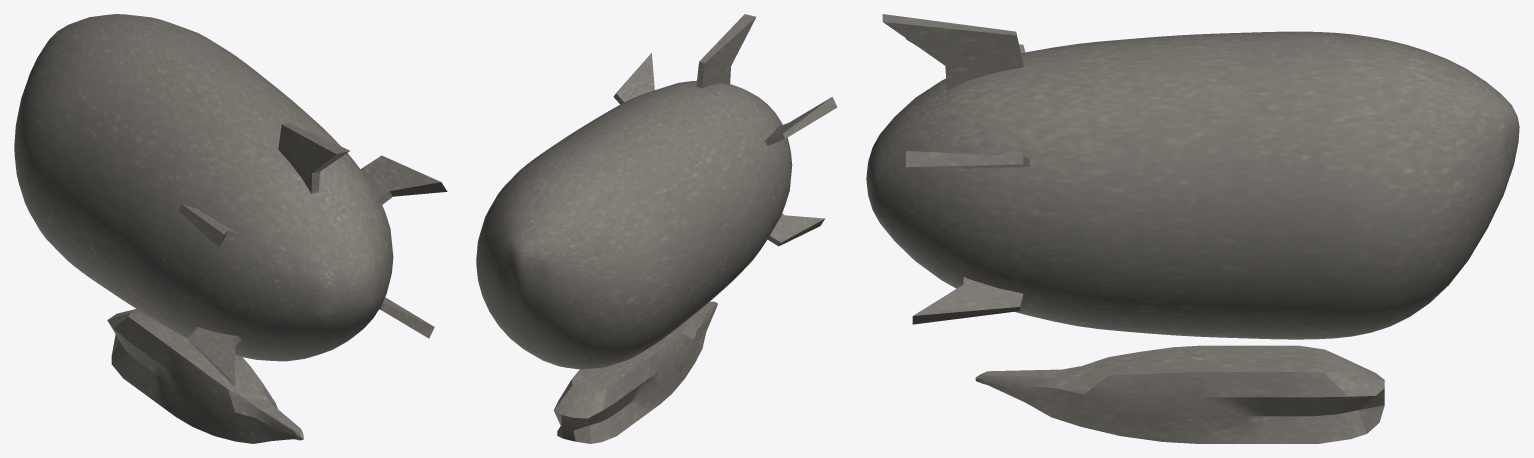
Rendered from airship.fbx.
The picture shows the model from 3 angles, left to right: view 1: azimuth 30°, elevation 25°; view 2: azimuth 150°, elevation 25°; view 3: azimuth 270°, elevation 25°; orthographic projection. The views are drawn at different scales.
Visible parts, largest first — view 1: 0_balloon; view 2: 0_balloon; view 3: 0_balloon.
Part boxes in pixels (x1,y1,x2,y2): 0_balloon: (14, 14, 447, 443); 0_balloon: (476, 14, 837, 443); 0_balloon: (866, 14, 1519, 443).
Bounding box in the file's own units: 341 × 509 × 736.
